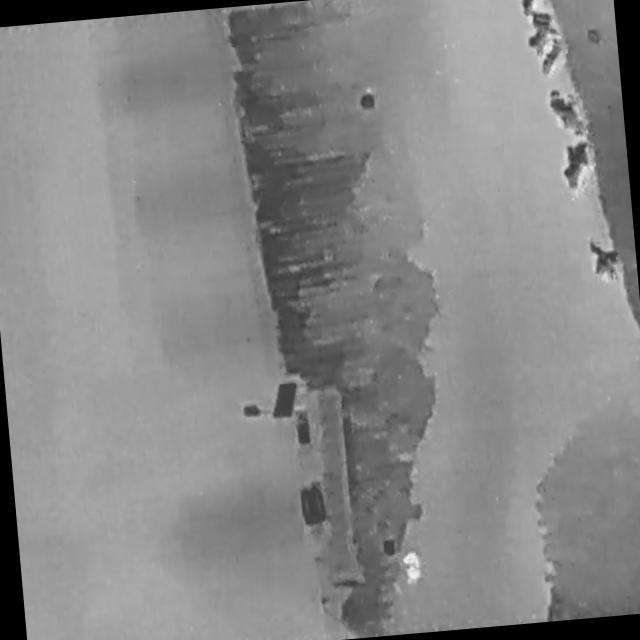person: (400, 550, 426, 588)
